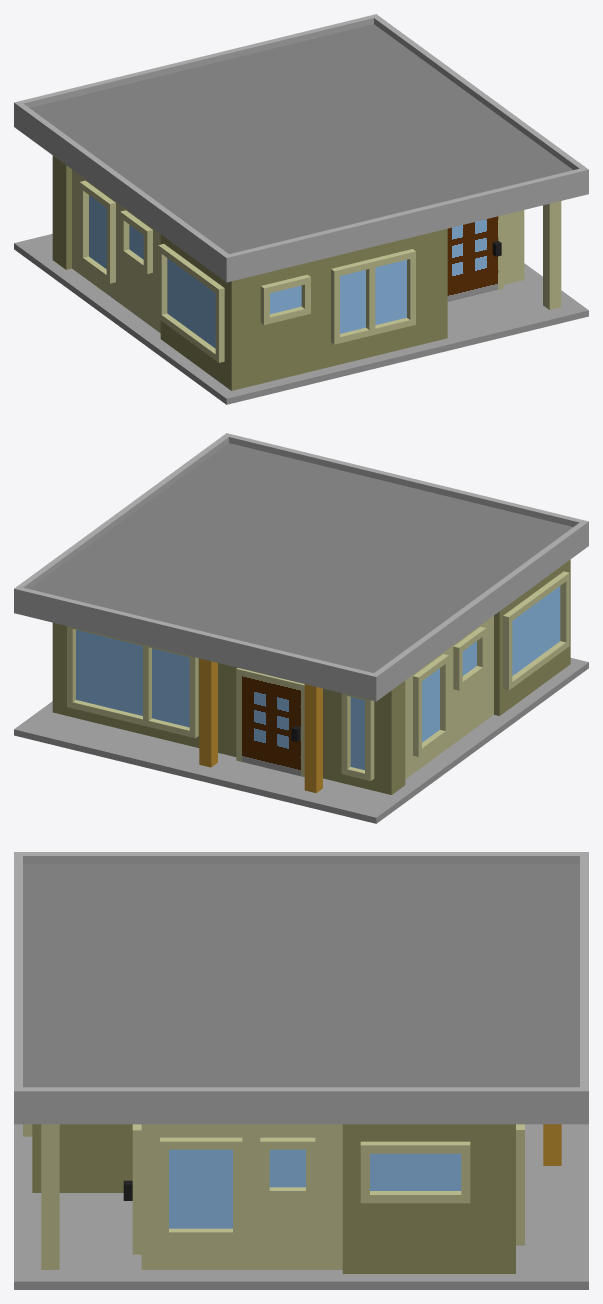
The model's file is obj_house1a.fbx.
3 views of the same model, one above another, from view 1: azimuth 30°, elevation 25°; view 2: azimuth 150°, elevation 25°; view 3: azimuth 270°, elevation 25° (orthographic). The views are drawn at different scales.
Parts seen in each view (by area): view 1: obj_house1a; view 2: obj_house1a; view 3: obj_house1a.
Part boxes in pixels (<box>): obj_house1a: <box>14,14,588,404</box>; obj_house1a: <box>14,433,588,823</box>; obj_house1a: <box>14,852,588,1289</box>.
Bounding box in the file's own units: 6.2 × 6.3 × 2.4.
Materials: 1 (1 with a texture image).
